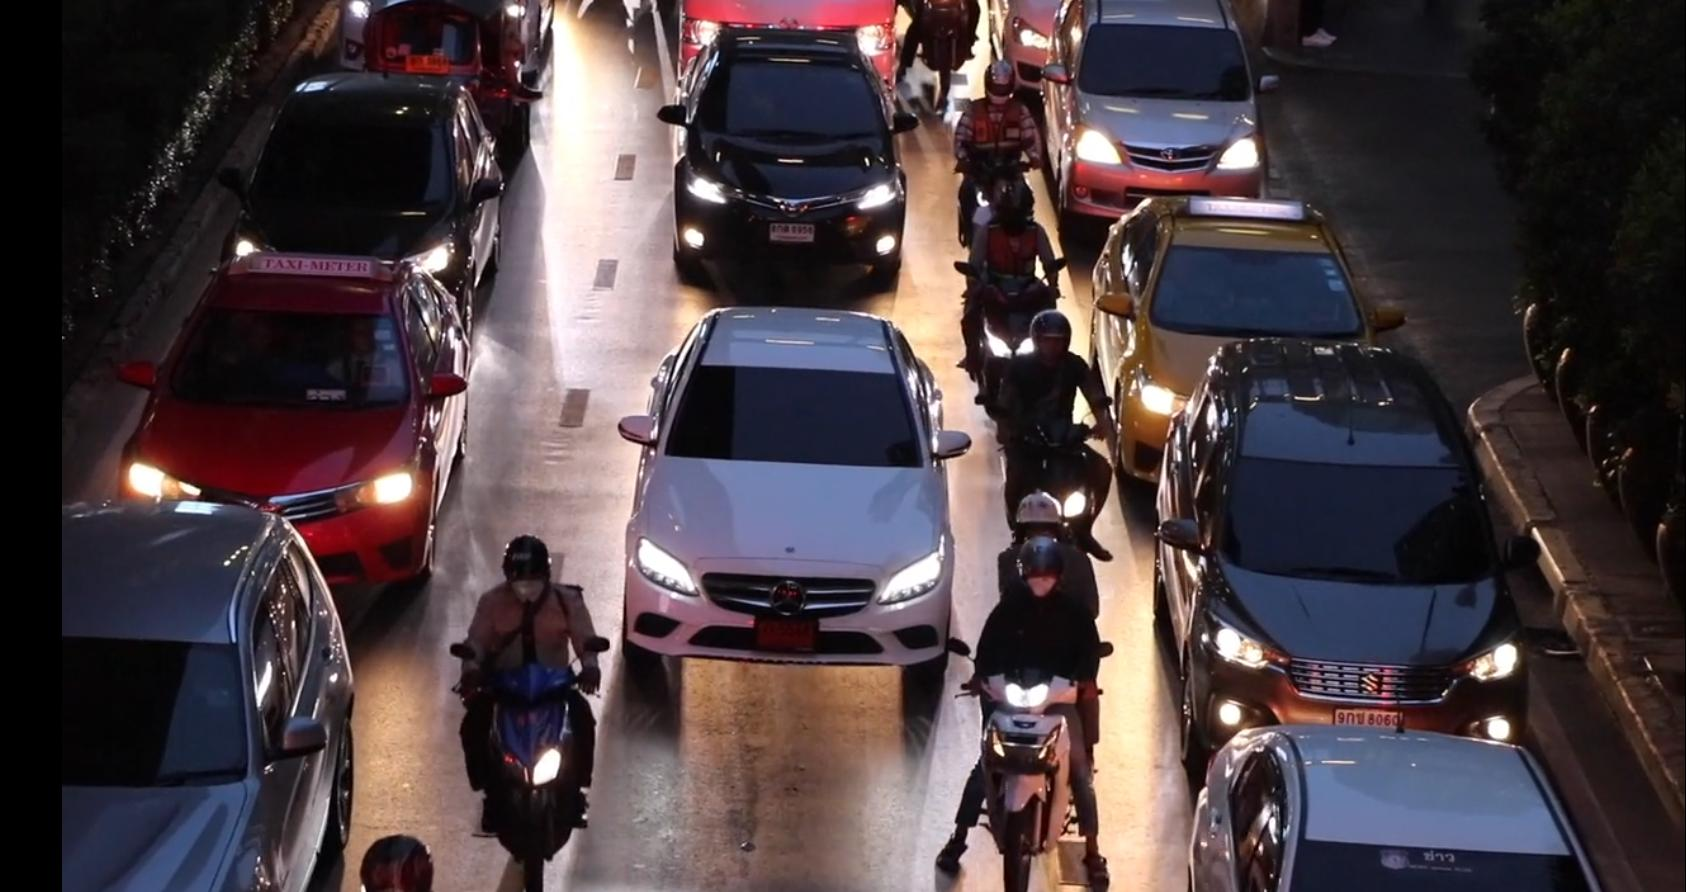car: (620, 277, 981, 719), (137, 224, 491, 589), (1200, 705, 1578, 892)
motorcycle: (457, 522, 657, 892), (980, 527, 1119, 879), (963, 664, 1127, 892), (998, 310, 1138, 525), (957, 52, 1063, 213)
tricycle: (363, 0, 549, 94)
